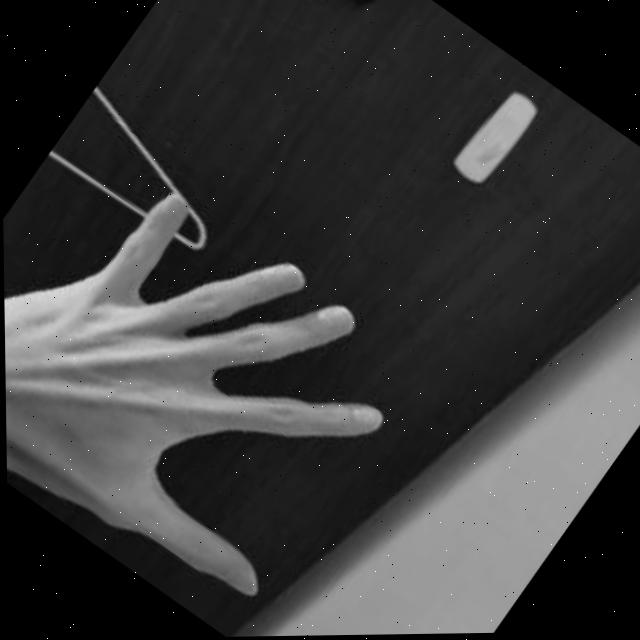hand: (1, 119, 430, 640)
